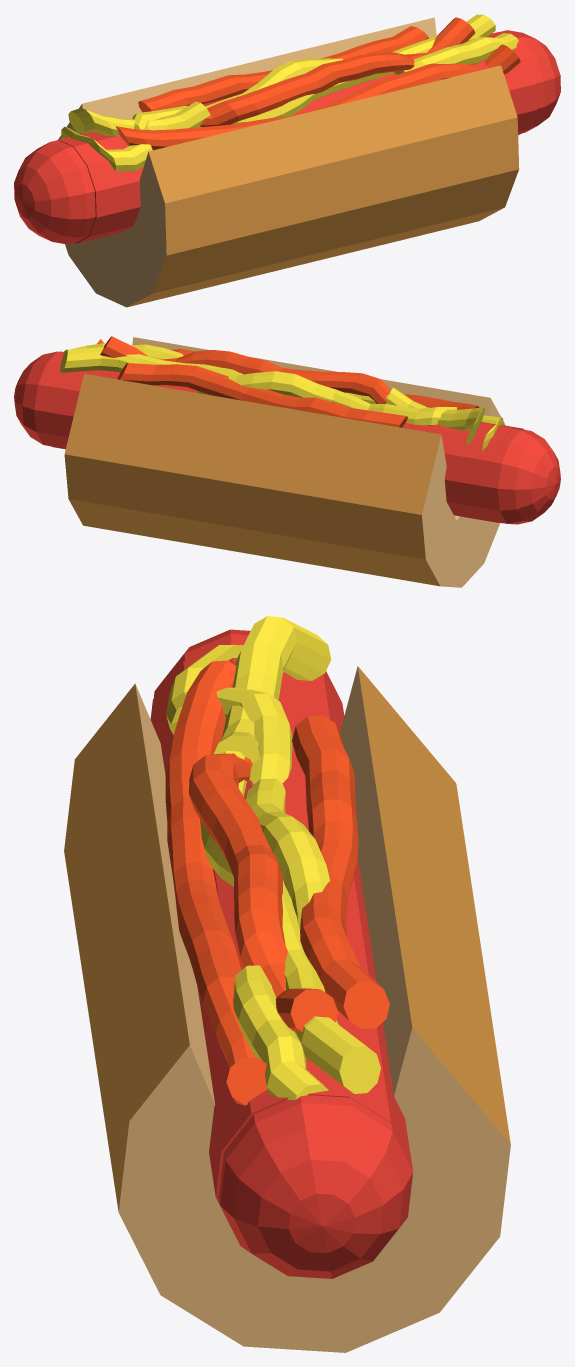
Rendered from HotDog.fbx.
3 views of the same model, one above another, from view 1: azimuth 30°, elevation 25°; view 2: azimuth 150°, elevation 25°; view 3: azimuth 270°, elevation 25° (orthographic). The views are drawn at different scales.
Parts seen in each view (by area): view 1: mesh_76308253, mesh_1393658530, mesh_1963766506, group_1306661046, group_1547037799, group_559260349, group_990449567, group_1440481286, mesh_2026580286, mesh_1433351847; view 2: mesh_76308253, mesh_1393658530, mesh_1963766506, group_990449567, group_1547037799, group_1306661046, mesh_2026580286, mesh_1433351847, group_1440481286, group_559260349; view 3: mesh_76308253, mesh_2026580286, group_559260349, group_1547037799, mesh_1393658530, group_990449567, group_1306661046, mesh_1433351847, group_1440481286, mesh_1963766506.
Boxes of the visible parts, x1,y1,x2,y2 form: mesh_76308253: (58,17,519,307); mesh_1393658530: (58,32,537,243); mesh_1963766506: (14,140,95,244); group_1306661046: (200,17,475,126); group_1547037799: (61,33,518,171); group_559260349: (116,44,520,150); group_990449567: (138,26,428,112); group_1440481286: (68,101,210,135); mesh_2026580286: (500,30,560,133); mesh_1433351847: (231,14,495,124); mesh_76308253: (64,337,505,587); mesh_1393658530: (43,356,523,523); mesh_1963766506: (489,429,560,524); group_990449567: (117,363,407,427); group_1547037799: (64,343,503,451); group_1306661046: (100,336,390,403); mesh_2026580286: (14,351,63,446); mesh_1433351847: (60,347,388,403); group_1440481286: (385,387,484,444); group_559260349: (97,339,479,409); mesh_76308253: (64,666,510,1352); mesh_2026580286: (218,1095,413,1278); group_559260349: (165,660,267,1105); group_1547037799: (166,644,330,1100); mesh_1393658530: (150,641,410,1238); group_990449567: (292,715,389,1028); group_1306661046: (189,743,338,1032); mesh_1433351847: (200,750,380,1093); group_1440481286: (214,616,331,763); mesh_1963766506: (153,629,343,710).
Bounding box in the file's own units: 23.99 × 8.57 × 8.98.
